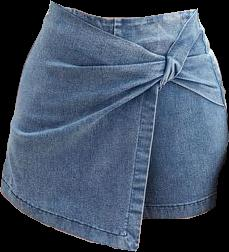Hemline: (0, 79, 226, 251), (141, 206, 216, 221)
Waistline: (51, 0, 193, 19)
